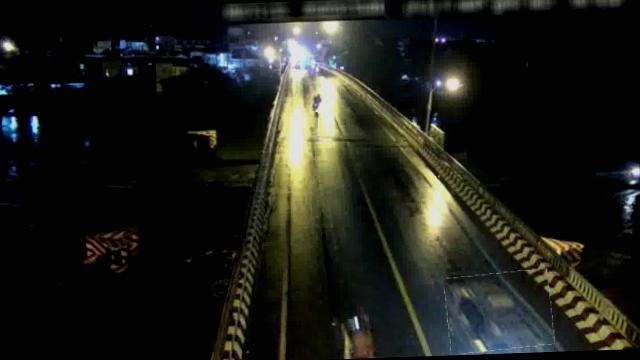Bike: (310, 93, 325, 112)
Car: (444, 270, 554, 354)
